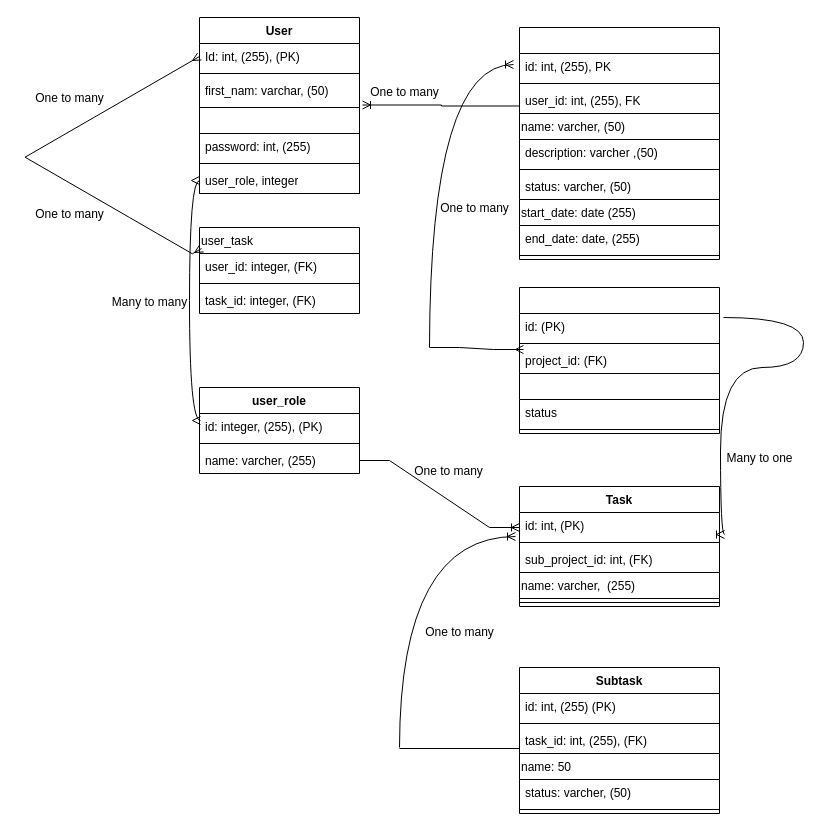
Image size: 822x831. Some labels were removed from this diagram. The shapes that lost their labels are listed below. From the top down, each one's box as (x1, y1, x2, y2) in pixels, then its label:
(518, 26, 720, 114): Project
(198, 106, 360, 194): username: varchar, (50)
(518, 286, 720, 374): Subproject
(518, 372, 720, 434): name
